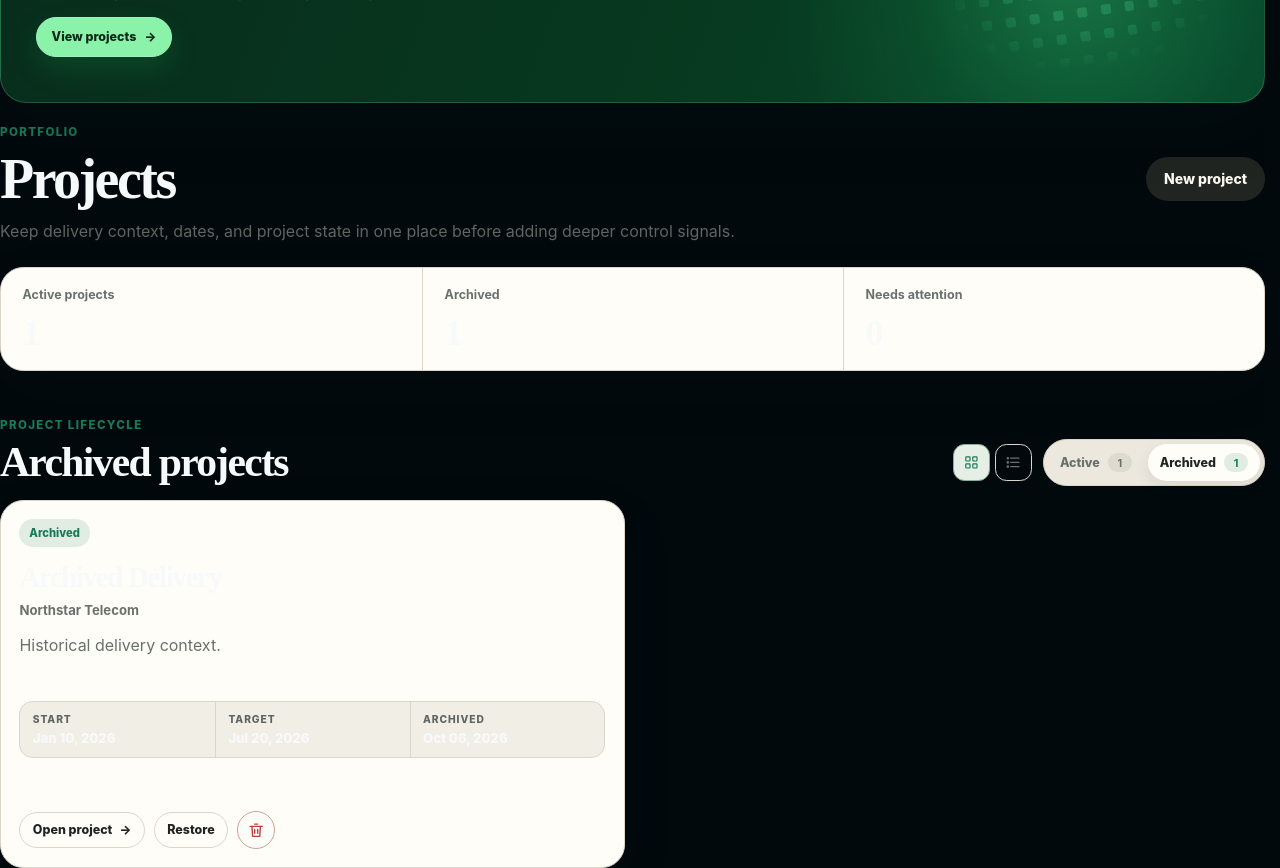
ProjectsPage permanent deletion › rejects deletion when the persisted project is no longer archived
The width and height of the screenshot is (1280, 868).
(page scrolled)
Click the button named "Delete permanently" at (256, 830), box [237,811,275,848]
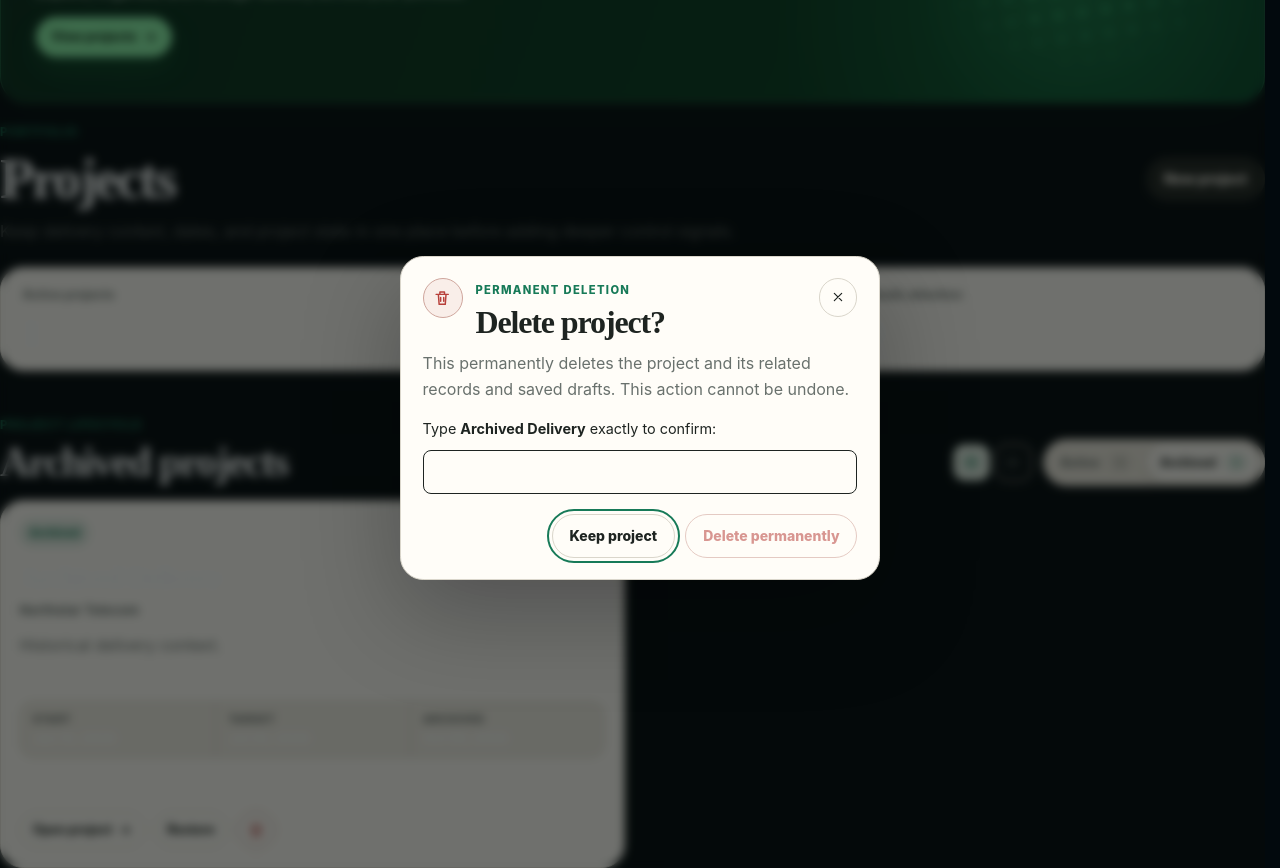
Type "Archived Delivery" into the field at (640, 472), box [423,450,857,494]
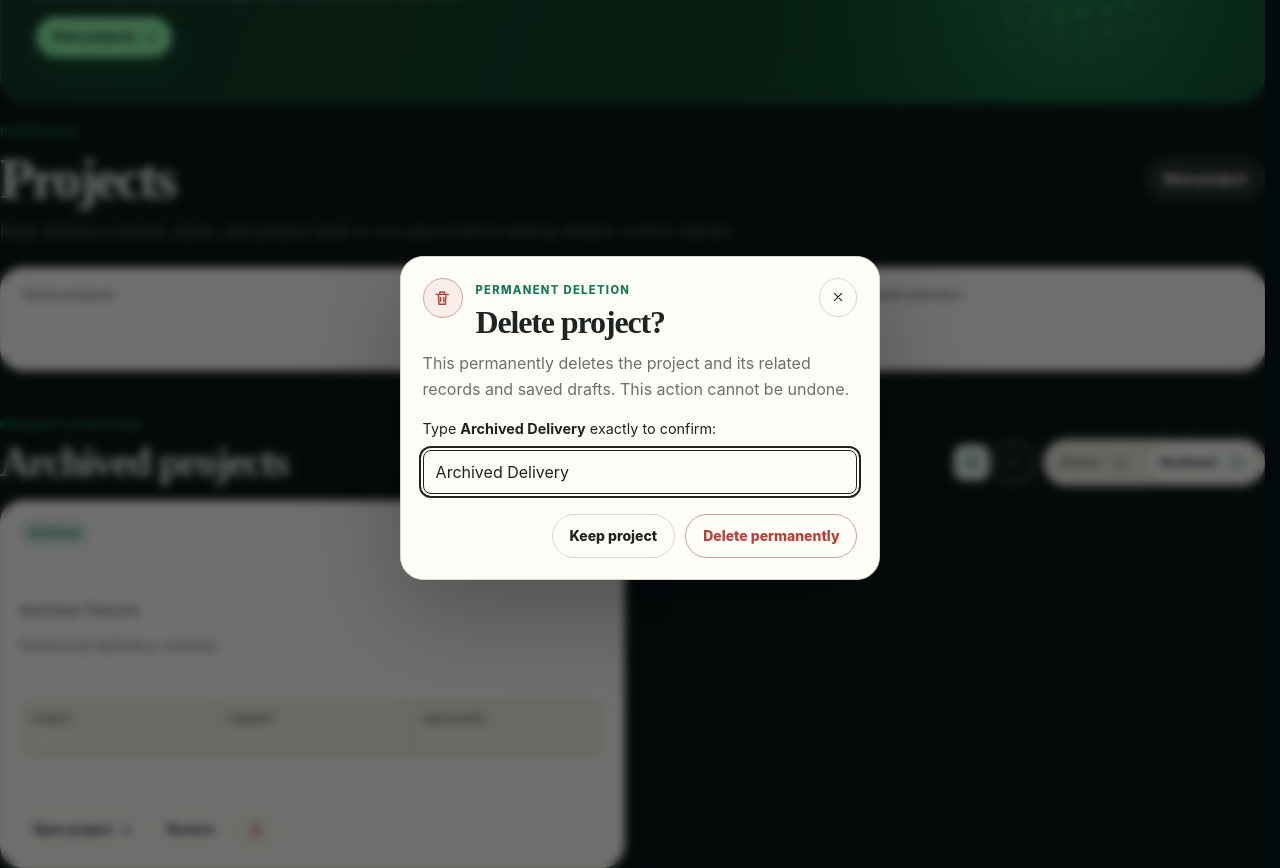
Click the button "Delete permanently" at (771, 536), box [685,514,857,558]
(page scrolled)
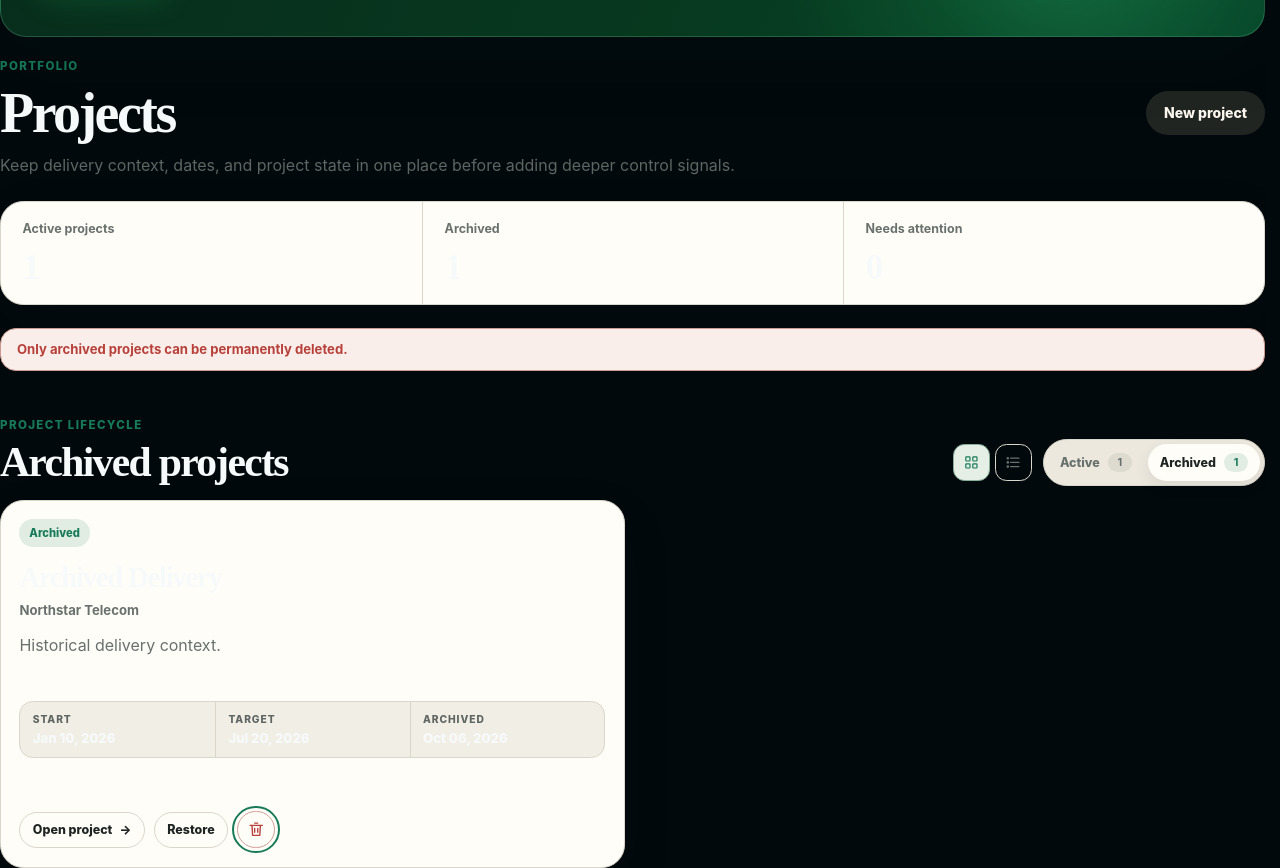
Result: the dialog is gone
Result: the message shows "Only archived projects can be permanently deleted" at [17,341,348,357]
